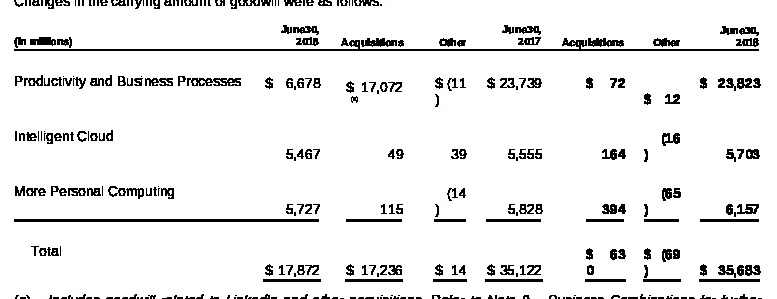table: (0, 0, 777, 299)
